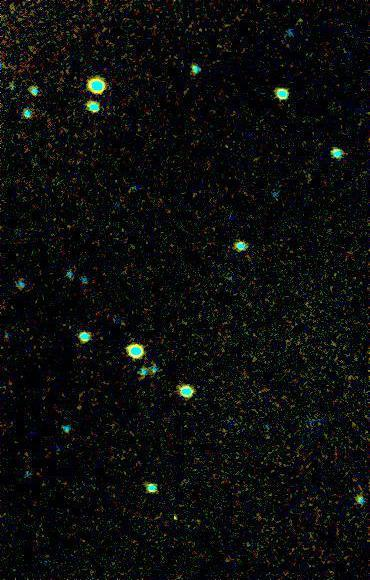star: (159, 501, 189, 531)
